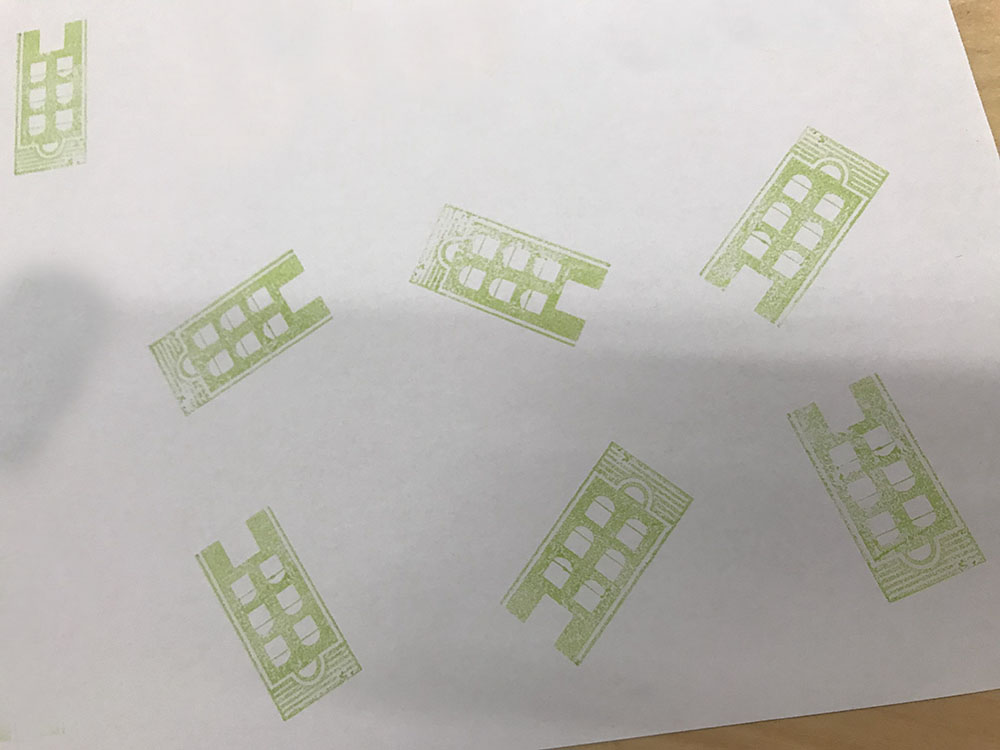build: (483, 426, 716, 678), (776, 366, 992, 623), (693, 106, 894, 350), (386, 182, 635, 371), (179, 495, 373, 733), (132, 237, 343, 435), (1, 7, 122, 194)
